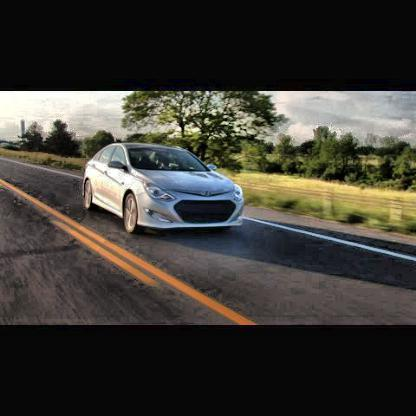Hyundai Sonata Hybrid Sedan 2012: (85, 144, 247, 235)
